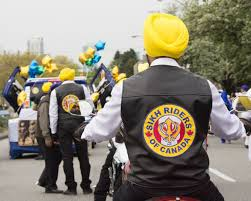helmet: (144, 12, 188, 64)
